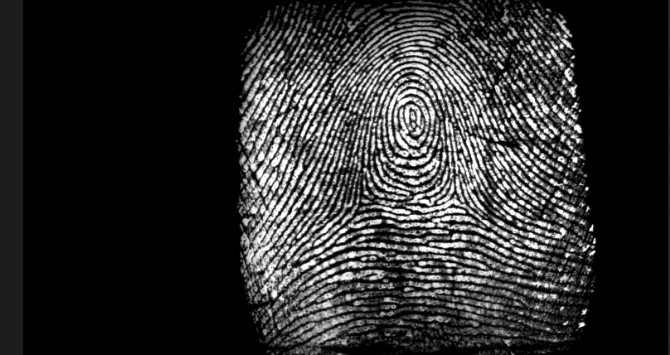deltas: (426, 167, 481, 222), (332, 176, 389, 221)
nucleo: (380, 82, 440, 147)
